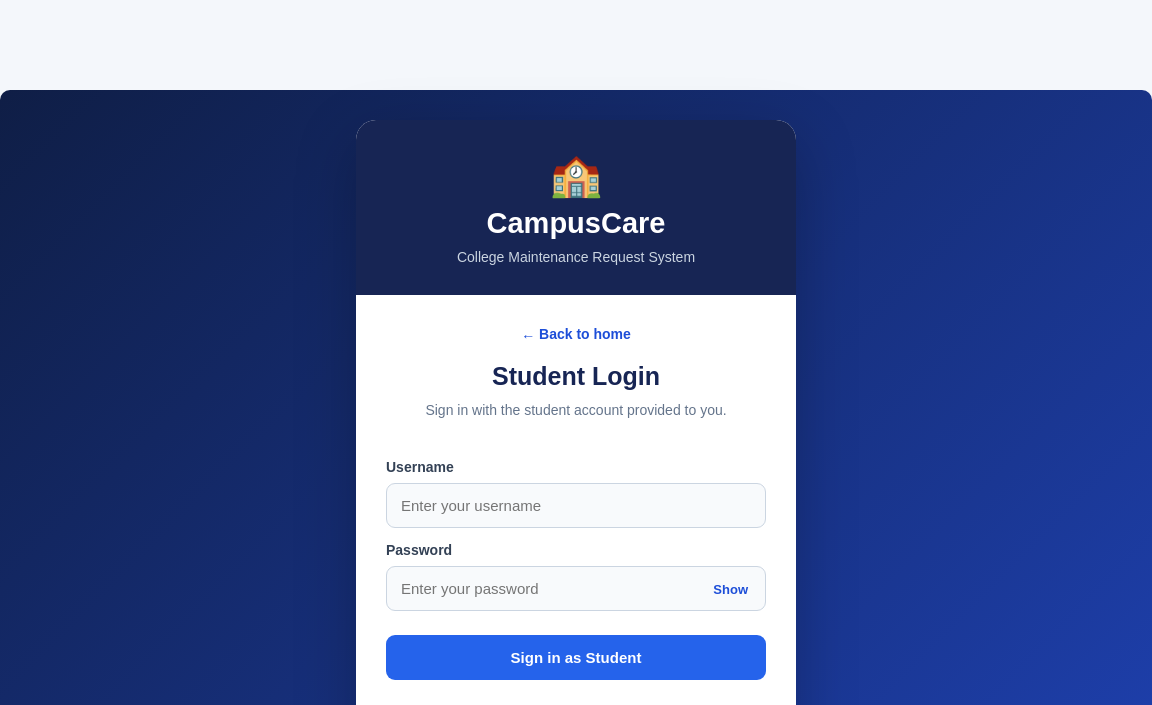
login distinguishes backend failures from invalid credentials
The width and height of the screenshot is (1152, 705).
Step 1. Type "student1" into the field labelled "Username" → [576, 506], box [386,483,766,528]
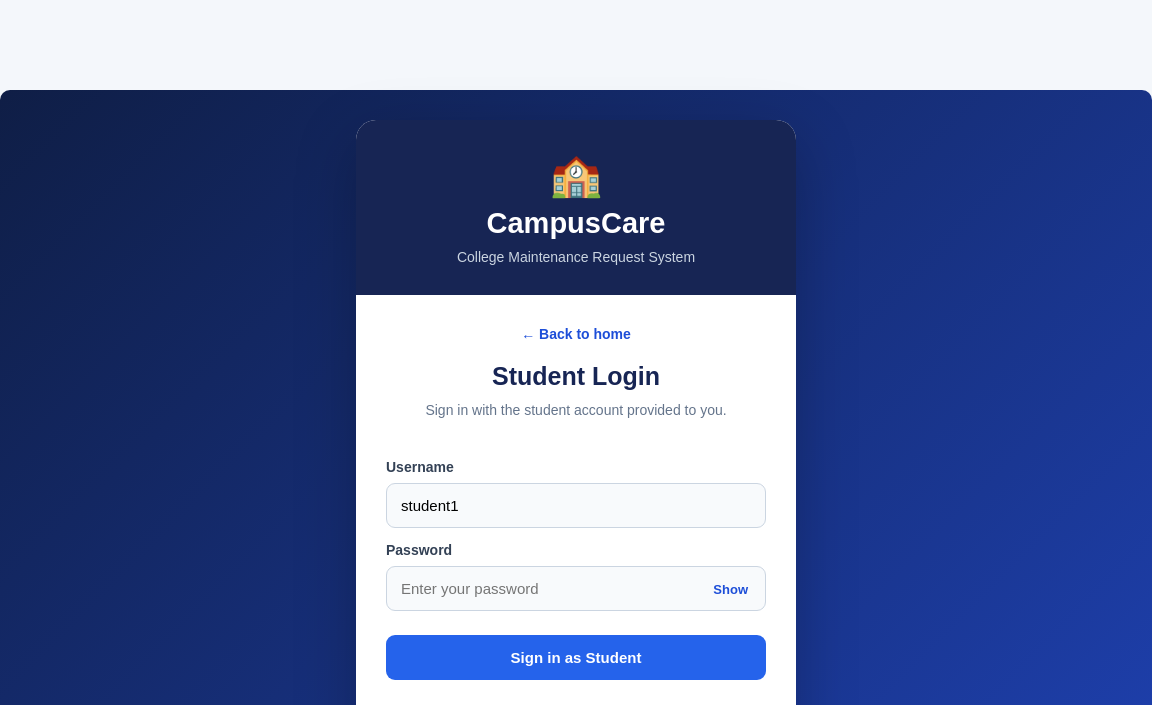
Step 2. Type "student-password" into the password field labelled "Password" → [576, 589], box [386,566,766,611]
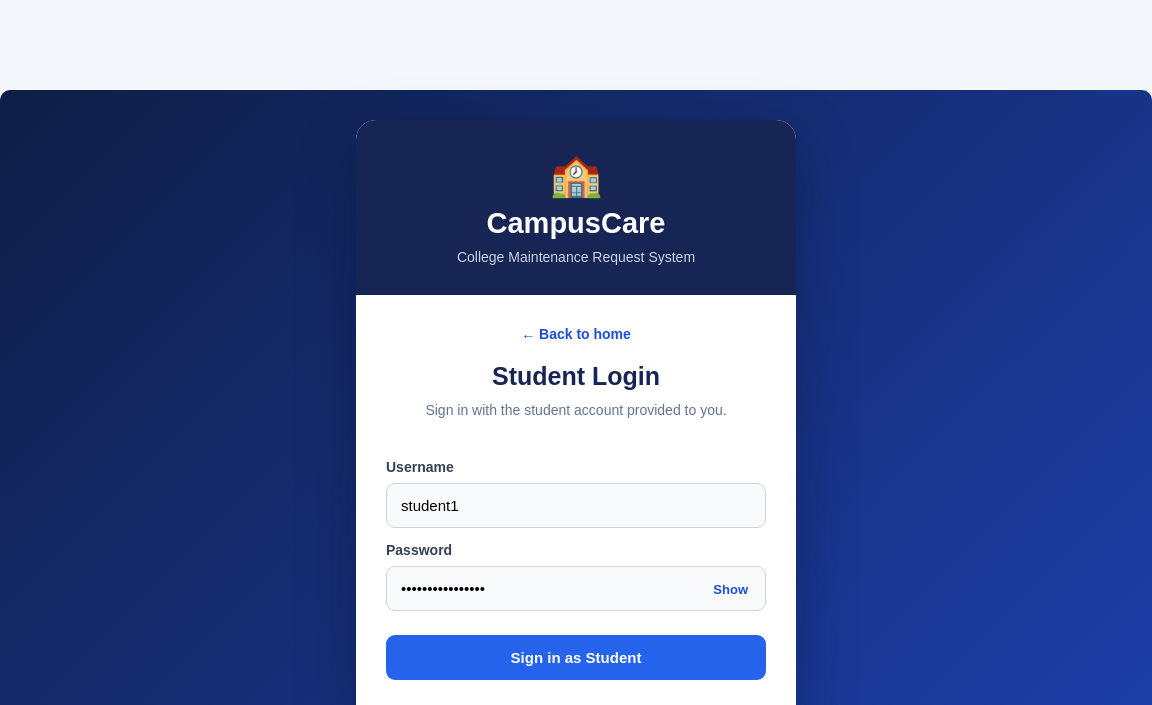
Step 3. Click the button "Sign in as Student" → [576, 658], box [386,635,766,680]
(page scrolled)
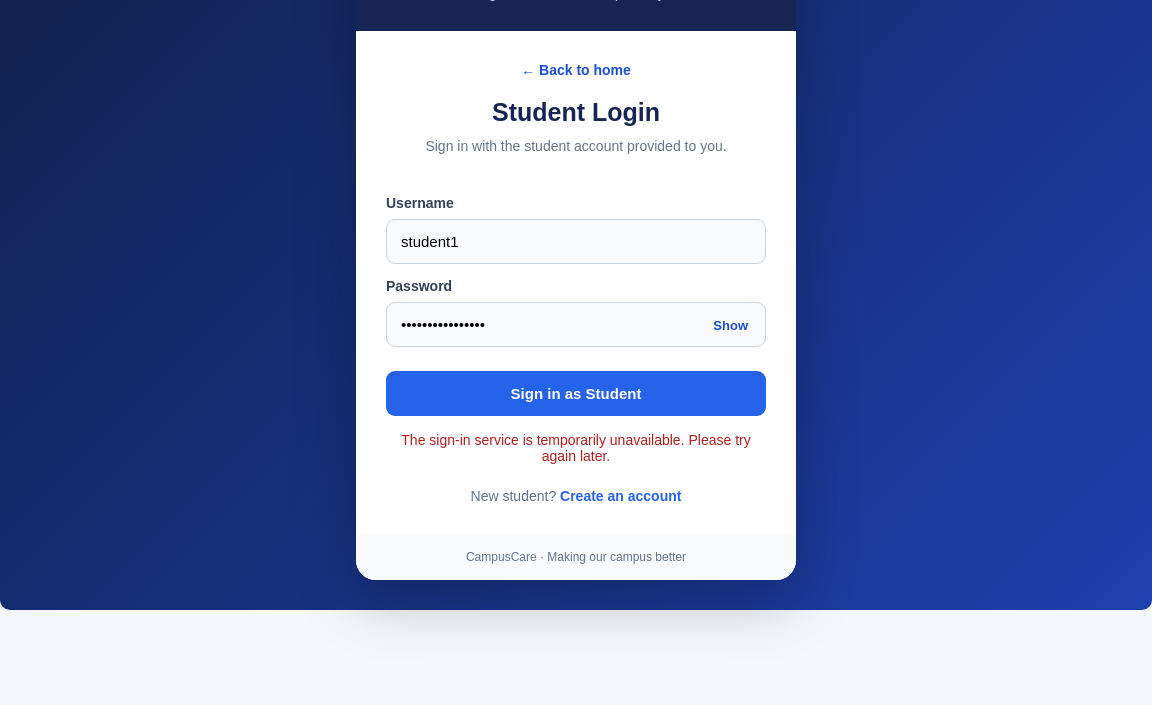
Expected: the message does not show "Invalid username or password", [386,432,766,464]
Expected: the message shows "The sign-in service is temporarily unavailable.", [401,432,751,464]
